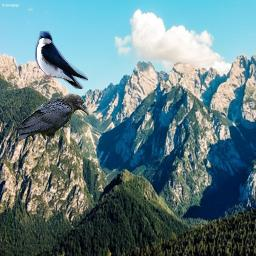Crow: (19, 93, 89, 142)
Swallow: (35, 31, 88, 89)
